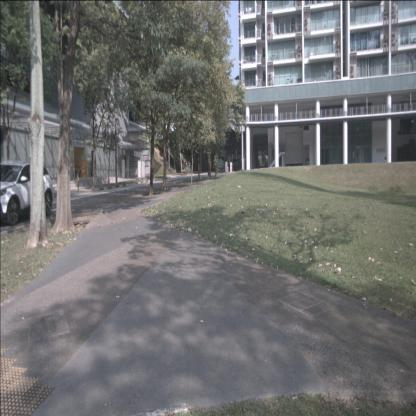vehicle-car: (0, 160, 54, 226)
